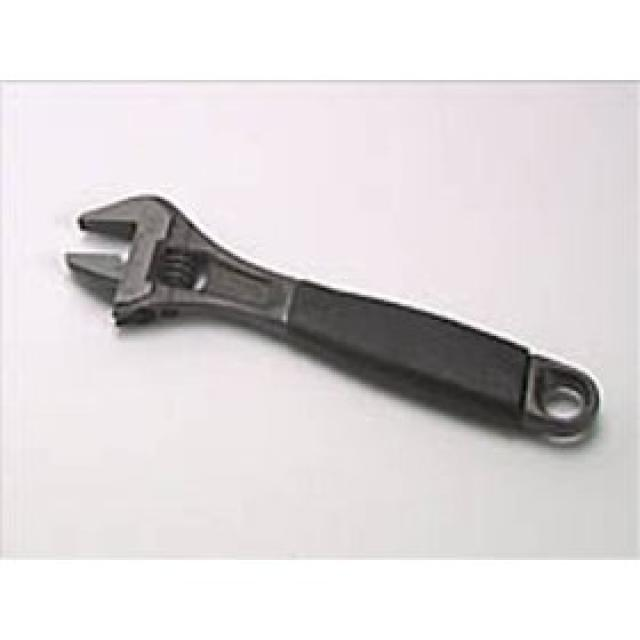wrench: (50, 167, 640, 475)
